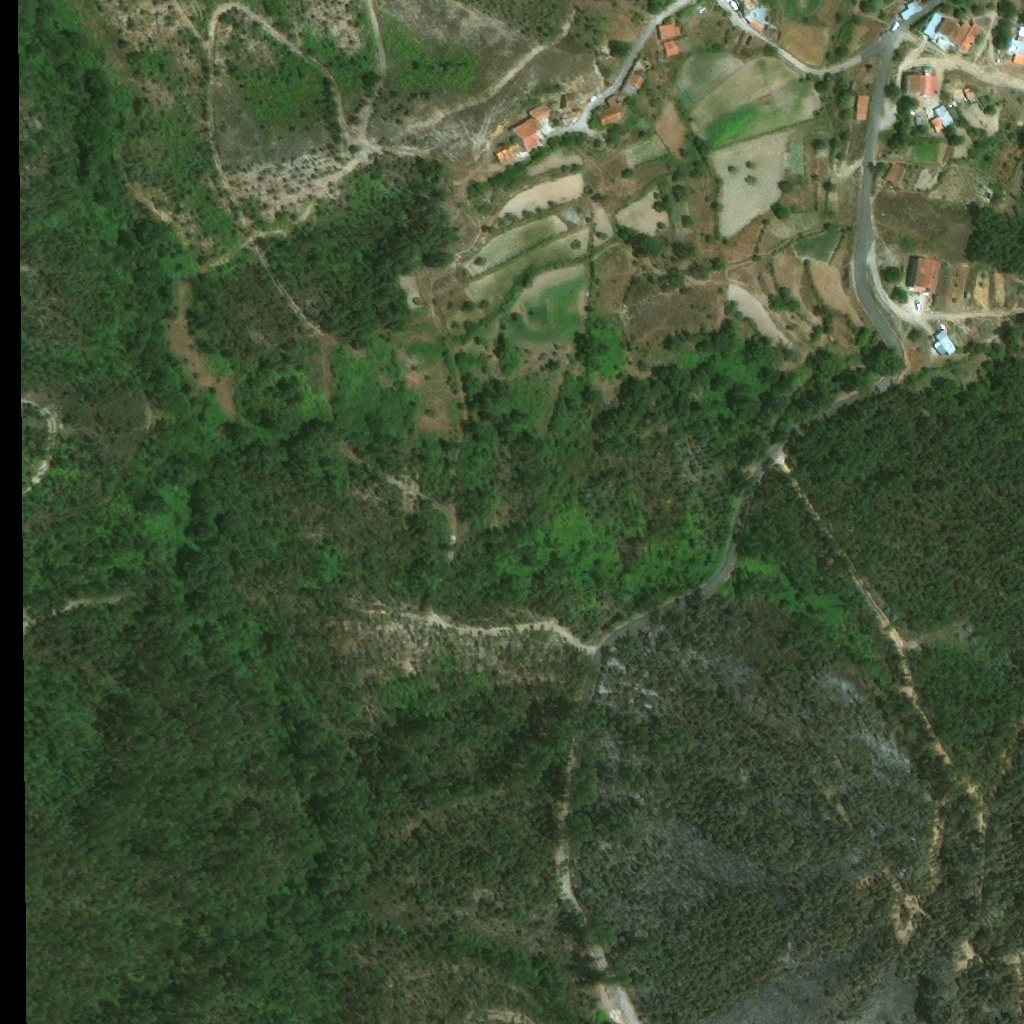0 no-damage: (921, 9, 982, 56), (509, 101, 552, 151), (738, 0, 780, 43), (618, 52, 654, 99), (903, 254, 942, 291), (900, 67, 938, 98), (595, 93, 628, 126), (927, 103, 955, 135), (495, 141, 530, 163), (932, 328, 956, 357), (662, 35, 692, 58), (884, 161, 908, 188), (657, 16, 683, 40), (898, 0, 923, 22), (852, 95, 869, 122), (962, 88, 980, 104), (561, 93, 577, 108), (914, 116, 922, 127), (964, 291, 972, 299)
4 un-classified: (1011, 33, 1023, 65)
